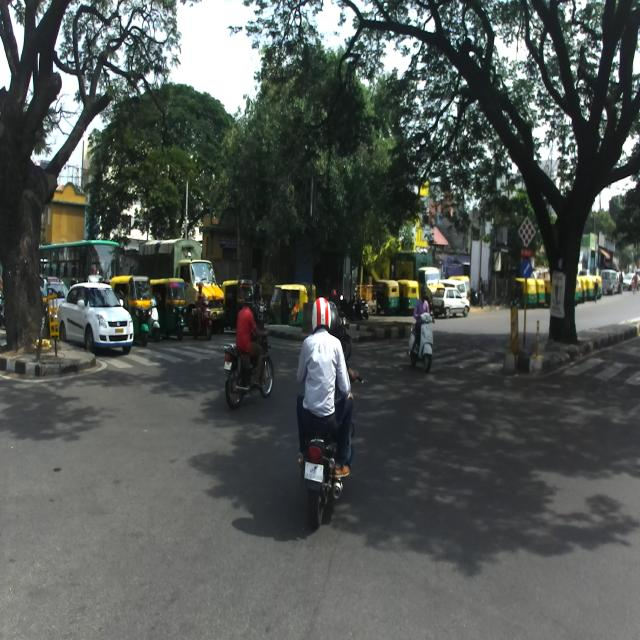car ahead at: (57, 285, 140, 352)
motorcycle ahead at: (287, 425, 356, 528), (220, 334, 276, 414)
